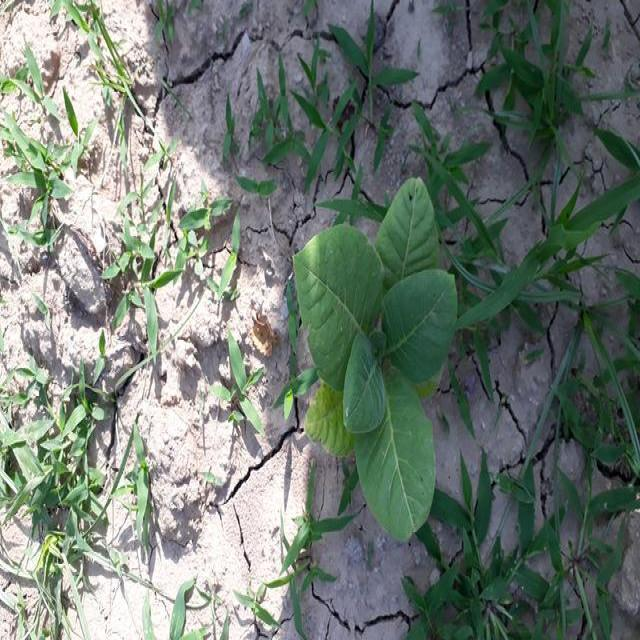crop: (291, 172, 459, 524)
